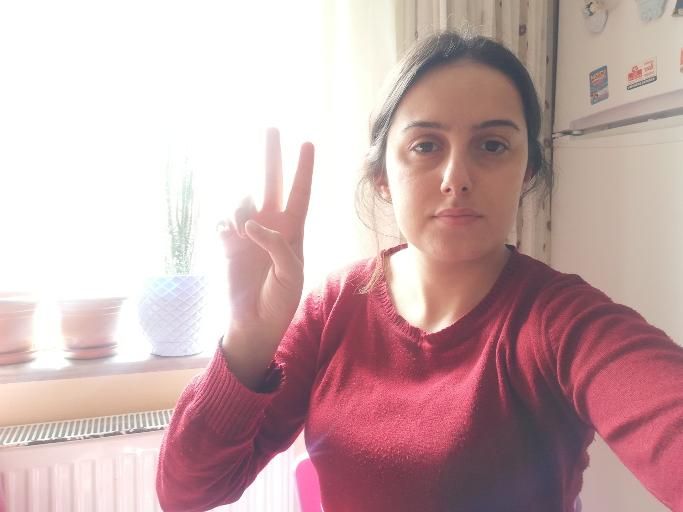peace: (214, 123, 318, 333)
